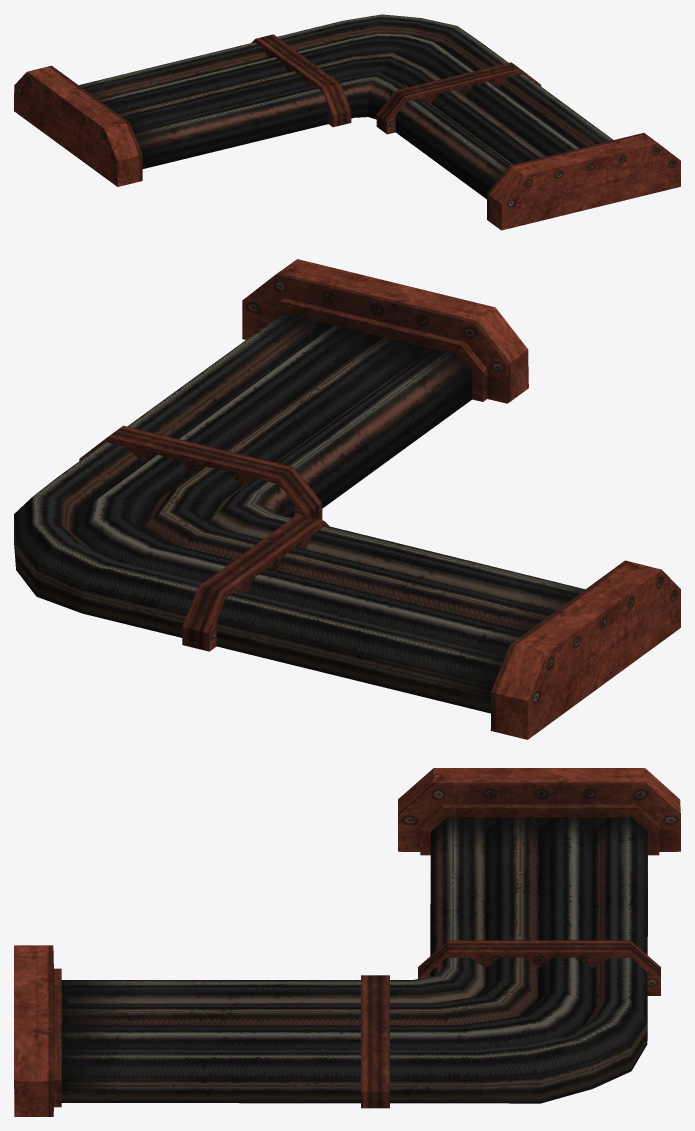
Rendered from cables_wall_turn_short_rounded.dae.
3 views of the same model, one above another, from view 1: azimuth 30°, elevation 25°; view 2: azimuth 150°, elevation 25°; view 3: azimuth 270°, elevation 25° (orthographic). The views are drawn at different scales.
Visible parts, largest first — view 1: polySurface847; view 2: polySurface847; view 3: polySurface847.
Part boxes in pixels (x1,y1,x2,y2): polySurface847: [14, 14, 680, 230]; polySurface847: [14, 259, 680, 739]; polySurface847: [14, 768, 680, 1116].
Size of the model in its own units: 1.27 by 0.146 by 1.27.
